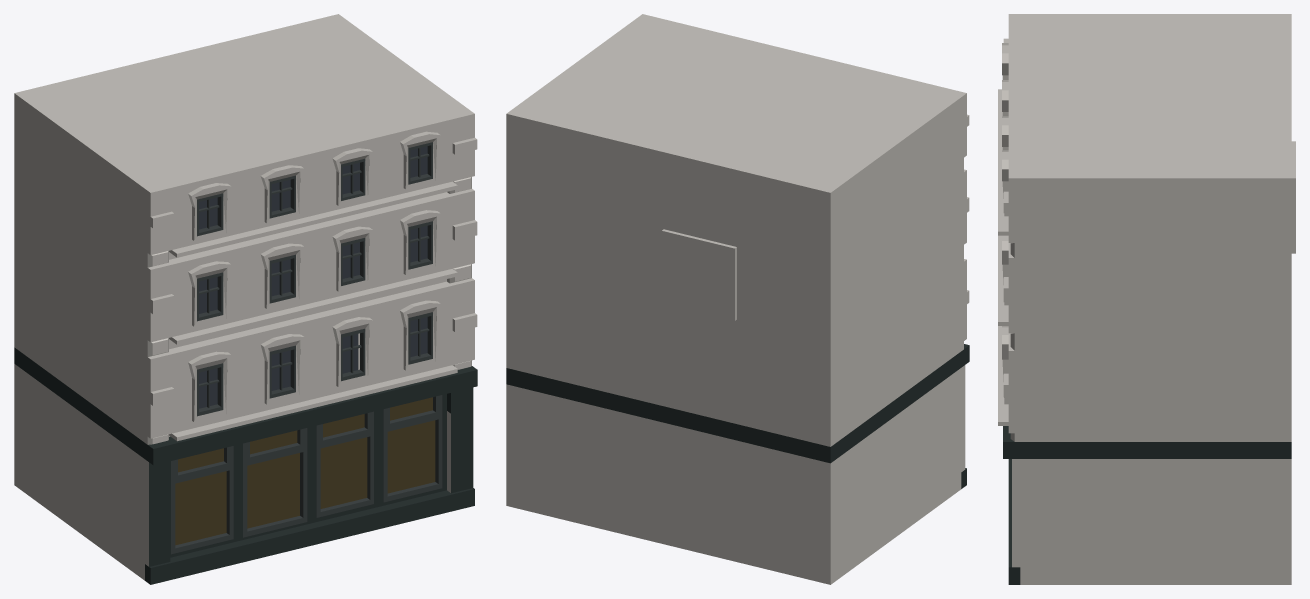
The model's file is extra building.fbx.
3 renders of one model, left to right at view 1: azimuth 30°, elevation 25°; view 2: azimuth 150°, elevation 25°; view 3: azimuth 270°, elevation 25°, orthographic. The views are drawn at different scales.
Visible parts, largest first — view 1: pCube145; view 2: pCube145; view 3: pCube145.
Boxes of the visible parts, x1,y1,x2,y2 form: pCube145: (14, 14, 477, 584); pCube145: (506, 14, 969, 584); pCube145: (998, 14, 1295, 584).
Bounding box in the file's own units: 99.54 × 115 × 76.33.
